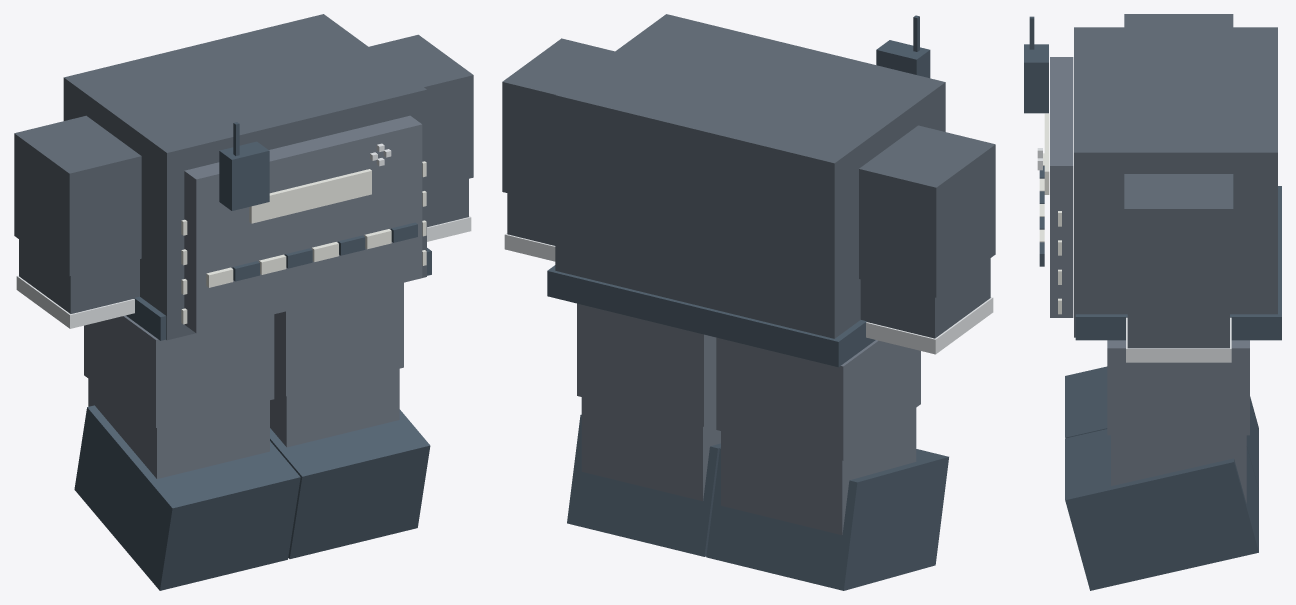
File: police-slate.glb
The picture shows the model from 3 angles, left to right: view 1: azimuth 30°, elevation 25°; view 2: azimuth 150°, elevation 25°; view 3: azimuth 270°, elevation 25°; orthographic projection. The views are drawn at different scales.
Parts seen in each view (by area): view 1: jacket, duty-vest, shoe-Right, upper-sleeve-Right, trouser-Right, shoe-Left, trouser-Left, lower-trouser-Right, upper-sleeve-Left, lower-trouser-Left, lower-sleeve-Right, vest-label (+5 smaller); view 2: jacket, upper-sleeve-Right, shoe-Right, trouser-Right, trouser-Left, lower-trouser-Right, lower-trouser-Left, duty-belt, upper-sleeve-Left, shoe-Left, lower-sleeve-Right, cuff-Right (+3 smaller); view 3: jacket, shoe-Left, upper-sleeve-Left, trouser-Left, duty-vest, lower-trouser-Left, lower-sleeve-Left, shoe-Right, duty-belt, radio, cuff-Left, upper-sleeve-Right (+1 smaller).
Part boxes in pixels (bbox=[...]): jacket: bbox=[63, 14, 426, 340]; duty-vest: bbox=[184, 115, 422, 333]; shoe-Right: bbox=[74, 405, 300, 590]; upper-sleeve-Right: bbox=[14, 115, 141, 276]; trouser-Right: bbox=[84, 314, 274, 427]; shoe-Left: bbox=[270, 409, 430, 558]; trouser-Left: bbox=[274, 282, 403, 396]; lower-trouser-Right: bbox=[88, 379, 269, 478]; upper-sleeve-Left: bbox=[369, 34, 473, 188]; lower-trouser-Left: bbox=[270, 368, 399, 447]; lower-sleeve-Right: bbox=[19, 239, 139, 313]; vest-label: bbox=[249, 169, 371, 223]; jacket: bbox=[555, 14, 945, 338]; upper-sleeve-Right: bbox=[859, 125, 995, 297]; shoe-Right: bbox=[706, 448, 948, 590]; trouser-Right: bbox=[716, 337, 920, 460]; trouser-Left: bbox=[577, 303, 716, 426]; lower-trouser-Right: bbox=[721, 408, 916, 534]; lower-trouser-Left: bbox=[581, 397, 720, 501]; duty-belt: bbox=[547, 265, 875, 367]; upper-sleeve-Left: bbox=[502, 38, 614, 204]; shoe-Left: bbox=[567, 414, 720, 556]; lower-sleeve-Right: bbox=[860, 258, 990, 338]; cuff-Right: bbox=[866, 297, 993, 354]; jacket: bbox=[1074, 27, 1277, 337]; shoe-Left: bbox=[1065, 429, 1258, 590]; upper-sleeve-Left: bbox=[1124, 174, 1233, 309]; trouser-Left: bbox=[1107, 340, 1249, 435]; duty-vest: bbox=[1050, 57, 1073, 317]; lower-trouser-Left: bbox=[1111, 435, 1246, 503]; lower-sleeve-Left: bbox=[1127, 310, 1229, 348]; shoe-Right: bbox=[1065, 366, 1258, 489]; duty-belt: bbox=[1075, 186, 1281, 340]; radio: bbox=[1024, 44, 1048, 113]; cuff-Left: bbox=[1126, 317, 1231, 362]; upper-sleeve-Right: bbox=[1124, 14, 1233, 27].
Size of the model in its own units: 1.07 by 1.21 by 0.6.
